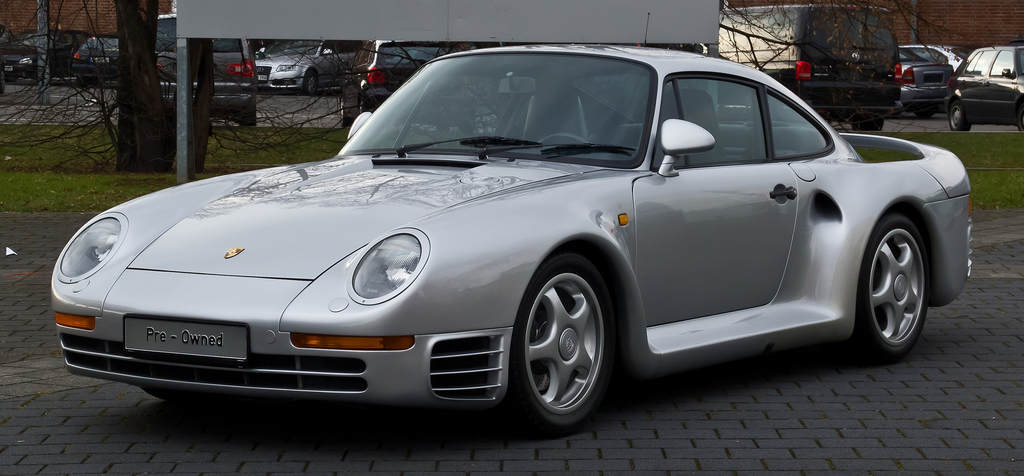Car: (60, 51, 974, 417), (147, 15, 258, 126), (339, 35, 460, 125), (943, 44, 1023, 126), (256, 37, 360, 91), (894, 45, 960, 116), (0, 28, 86, 74), (74, 32, 120, 85)
